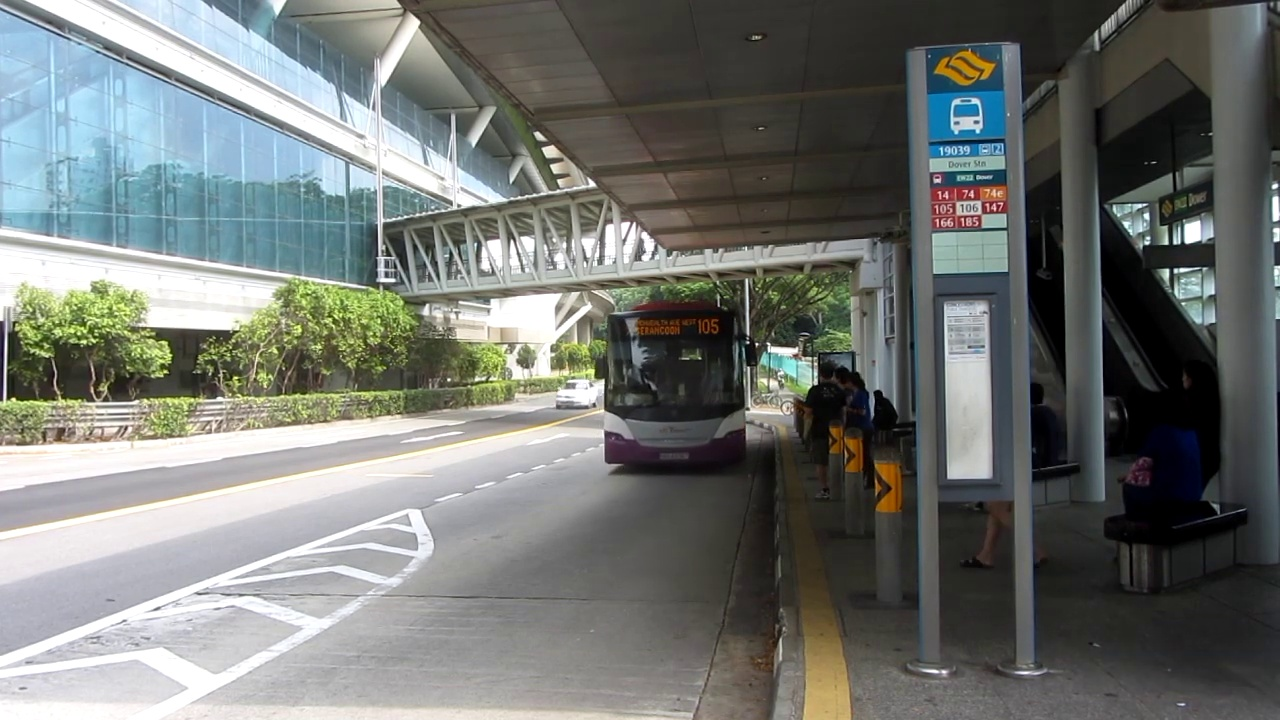bus panel: (624, 318, 721, 336)
